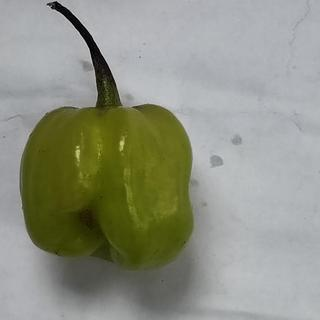Grade-B: (13, 100, 195, 270)
